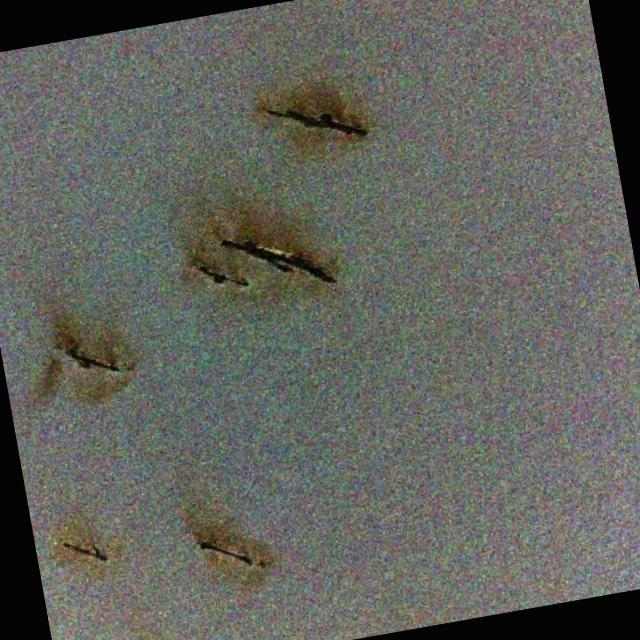crack: (222, 220, 331, 296), (264, 98, 366, 149), (60, 342, 116, 380), (193, 260, 248, 292), (200, 542, 248, 573), (62, 538, 106, 568)
